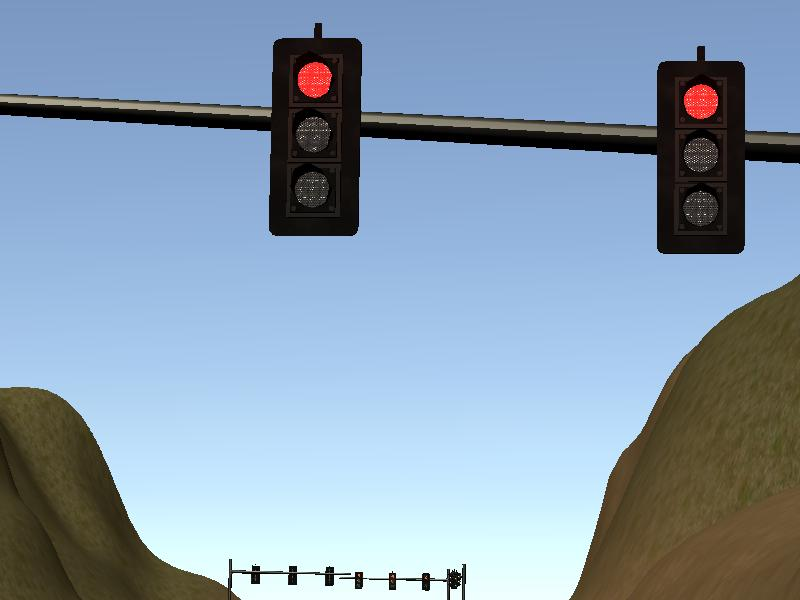red: (272, 35, 361, 237), (656, 60, 745, 255)
